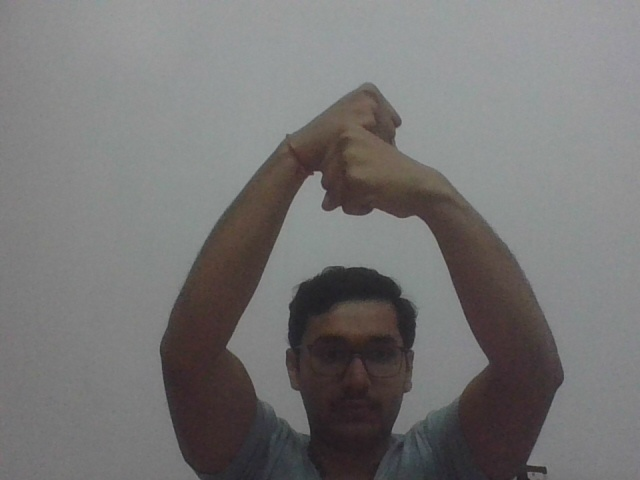G: (309, 76, 432, 230)
